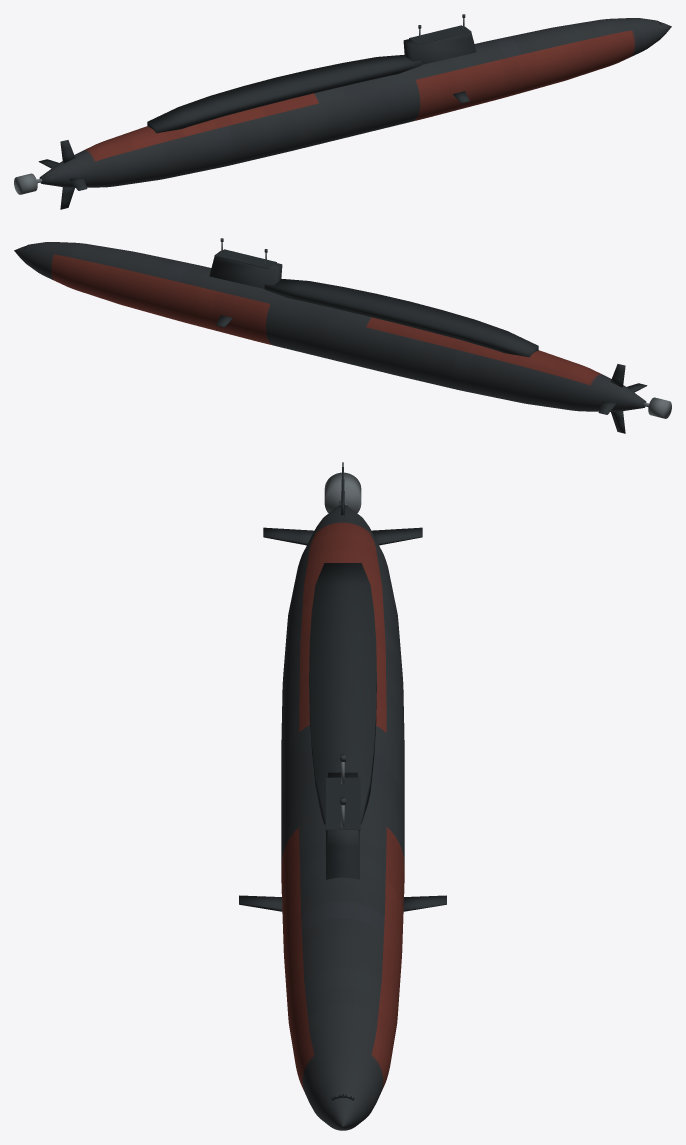
Rendered from IN_SSBN_S4_LOD1.fbx.
3 renders of one model, top to bottom at view 1: azimuth 30°, elevation 25°; view 2: azimuth 150°, elevation 25°; view 3: azimuth 270°, elevation 25°, orthographic. The views are drawn at different scales.
Parts seen in each view (by area): view 1: IN_SSBN_S4_LOD1; view 2: IN_SSBN_S4_LOD1; view 3: IN_SSBN_S4_LOD1.
Part boxes in pixels (x1,y1,x2,y2): IN_SSBN_S4_LOD1: (14,14,671,209); IN_SSBN_S4_LOD1: (14,238,671,433); IN_SSBN_S4_LOD1: (239,462,446,1130).
Size of the model in its own units: 135 by 18.57 by 19.
6 materials, 1 textured.
